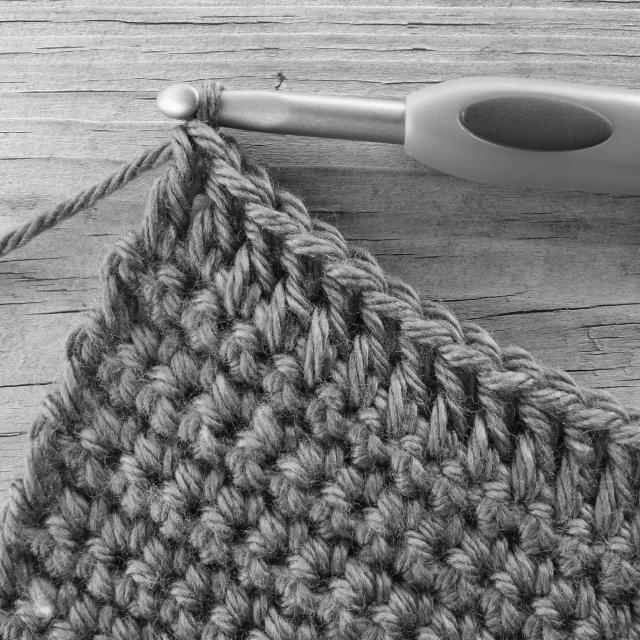dc: (138, 120, 231, 255), (302, 245, 387, 385), (224, 189, 311, 321), (549, 387, 633, 522), (266, 220, 351, 352), (470, 345, 552, 480), (385, 299, 466, 435), (344, 274, 428, 404), (188, 157, 271, 284), (424, 323, 500, 455), (508, 367, 582, 502), (594, 403, 640, 533)
sc: (136, 364, 184, 439), (315, 570, 363, 640), (60, 463, 108, 533), (58, 356, 105, 426), (111, 552, 158, 622), (28, 510, 77, 576), (132, 302, 181, 366), (97, 345, 145, 407), (178, 395, 221, 464), (431, 547, 481, 606), (378, 471, 425, 533), (230, 525, 274, 591), (345, 392, 387, 461), (477, 465, 523, 528), (596, 520, 639, 587), (269, 451, 314, 514), (262, 494, 308, 555), (271, 552, 317, 613), (173, 450, 224, 505), (107, 447, 145, 520), (62, 313, 110, 370), (102, 230, 146, 292), (154, 576, 198, 638), (553, 502, 594, 568), (95, 393, 139, 454), (221, 431, 268, 488), (219, 322, 262, 384), (340, 445, 383, 507), (309, 473, 352, 535), (65, 425, 106, 490), (347, 541, 391, 601), (30, 389, 70, 455), (189, 504, 232, 565), (72, 535, 115, 596), (551, 558, 593, 620), (214, 475, 265, 526), (483, 569, 521, 637), (519, 483, 558, 549), (302, 516, 346, 574), (432, 443, 471, 508), (298, 424, 343, 480), (303, 381, 346, 439), (391, 417, 427, 486), (260, 352, 302, 411), (506, 540, 551, 595), (101, 504, 149, 555), (148, 478, 188, 539), (183, 547, 229, 600), (182, 292, 223, 351), (31, 563, 78, 614), (394, 527, 433, 588), (143, 523, 187, 577), (135, 429, 181, 480), (221, 573, 267, 624), (432, 587, 476, 640), (391, 573, 434, 627), (352, 505, 391, 564), (24, 449, 63, 508), (421, 495, 466, 546), (268, 595, 319, 640), (259, 390, 296, 452), (213, 367, 256, 420), (75, 576, 115, 631), (145, 262, 182, 321), (595, 577, 629, 639), (467, 520, 509, 570), (522, 598, 569, 640), (174, 341, 216, 388), (1, 597, 46, 640), (361, 604, 405, 638), (201, 606, 240, 639)
